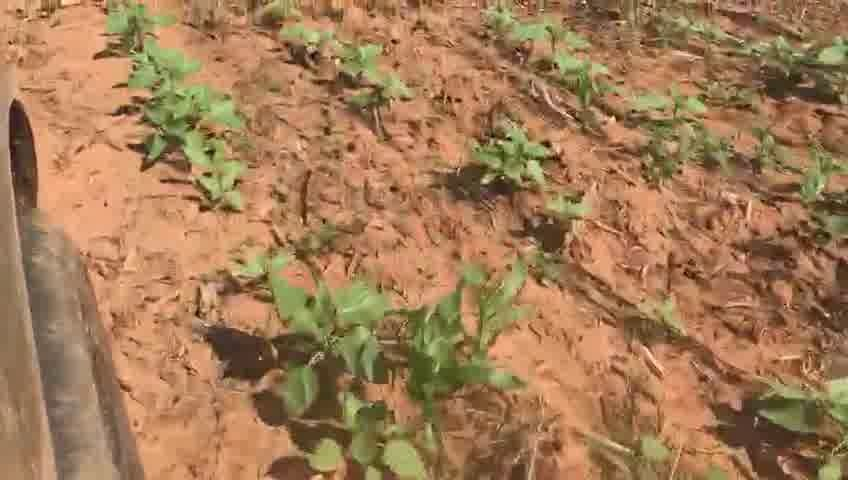sunflower: (272, 278, 392, 424), (746, 378, 839, 472), (304, 417, 440, 480), (135, 99, 230, 166), (467, 125, 550, 192), (536, 184, 599, 248), (96, 8, 172, 59), (151, 80, 232, 126), (562, 54, 618, 110), (514, 15, 578, 63), (655, 78, 702, 139), (191, 162, 247, 213), (128, 48, 198, 86), (360, 74, 419, 116), (328, 41, 382, 79), (283, 24, 331, 63)
